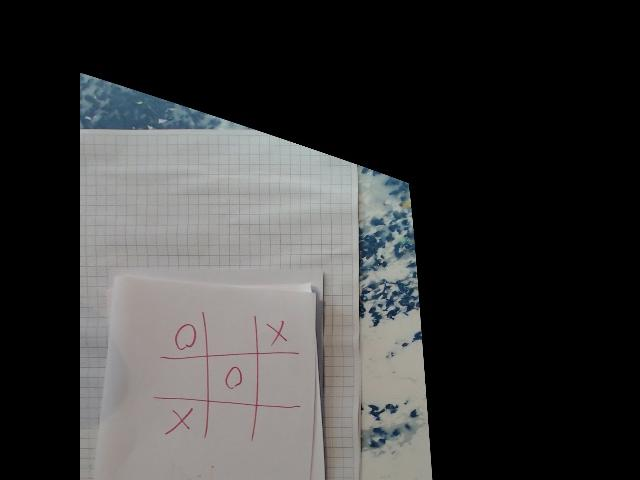O: (170, 319, 200, 350), (220, 363, 247, 394)
X: (161, 405, 197, 436), (267, 318, 290, 350)
grid: (153, 312, 300, 441)
